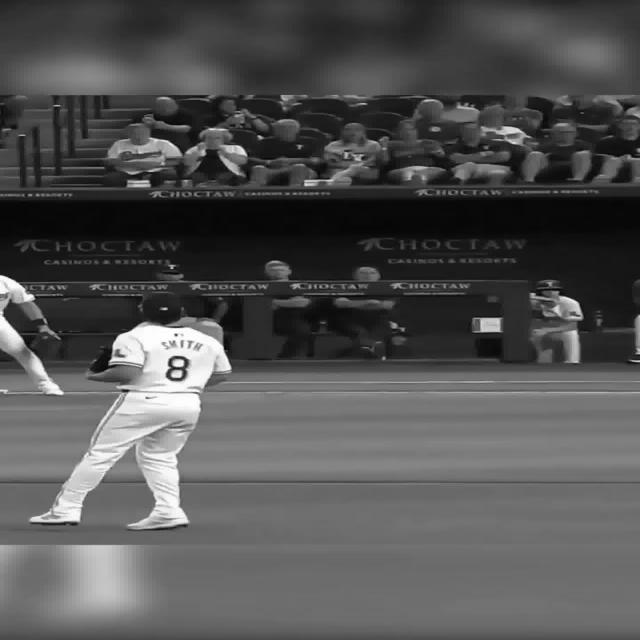baseball_glove: (29, 330, 63, 359), (87, 345, 112, 374)
shoe: (125, 516, 189, 530), (28, 509, 80, 525), (36, 378, 64, 396), (625, 353, 639, 363)
